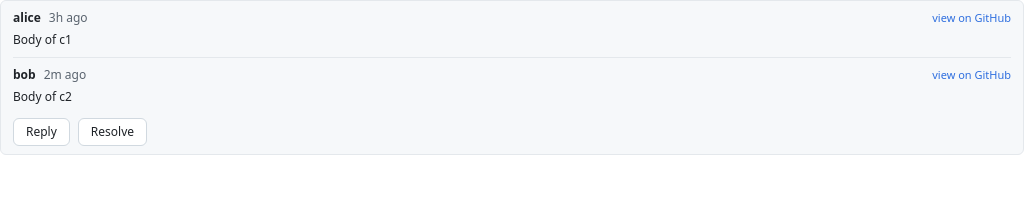
Scenario: Thread: resolving collapses it › a failed resolve leaves it open
Click the button "Resolve" at (112, 132), box [78,118,147,146]
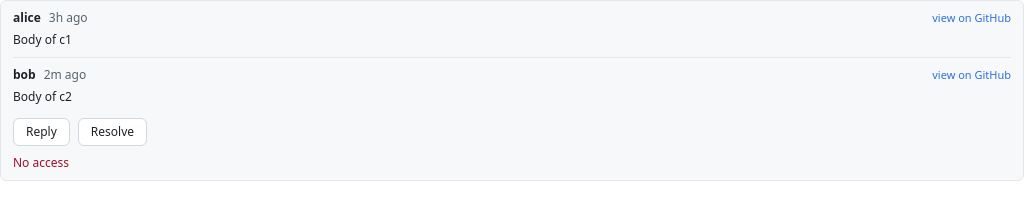
Expected: the message "No access" is shown, [13,154,69,171]
